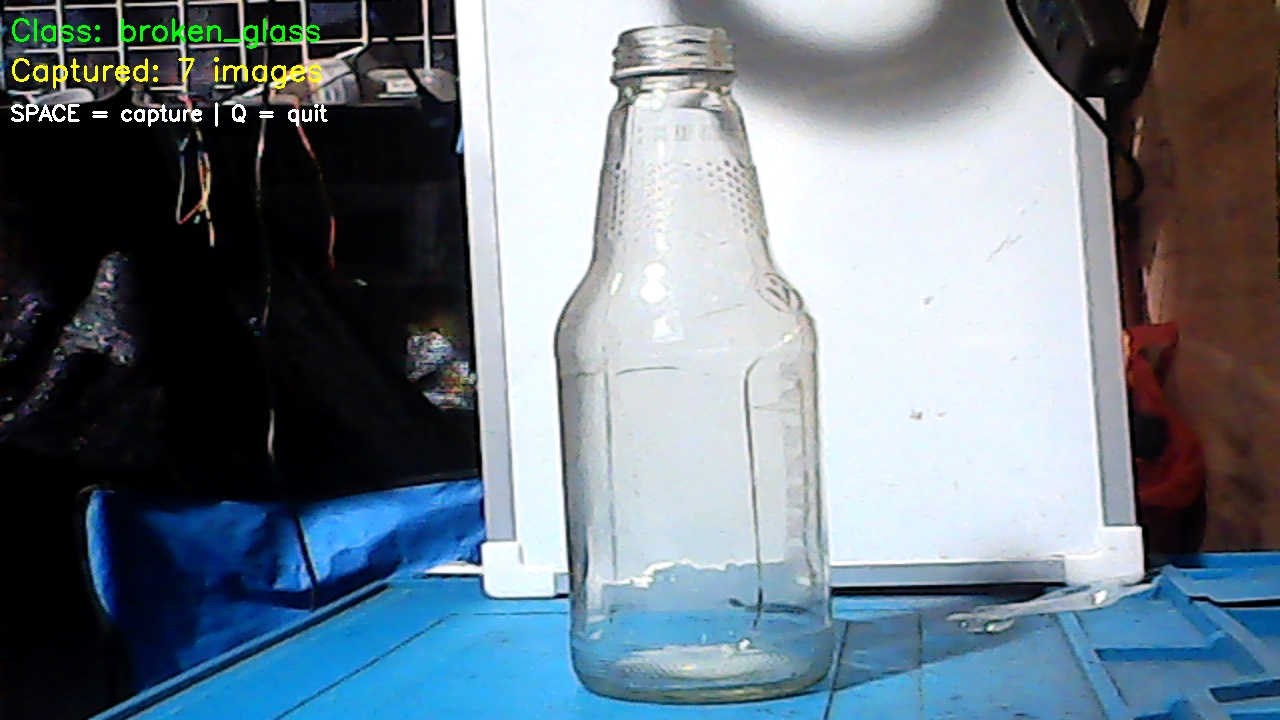broken_glass: (539, 27, 832, 708)
